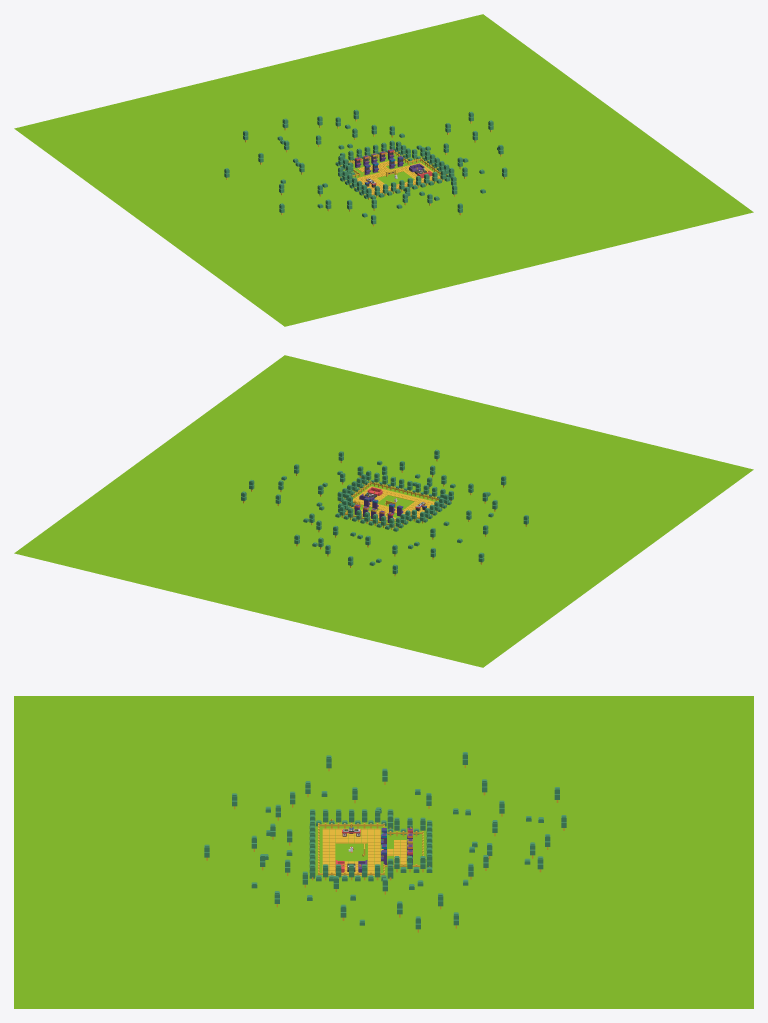
The model's file is arcade.glb.
The picture shows the model from 3 angles, top to bottom: view 1: azimuth 30°, elevation 25°; view 2: azimuth 150°, elevation 25°; view 3: azimuth 270°, elevation 25°; orthographic projection. The views are drawn at different scales.
Visible parts, largest first — view 1: Plane, Trees, Wood Floor; view 2: Plane, Trees, Wood Floor; view 3: Plane, Trees, Wood Floor, Fence.
Part boxes in pixels (x1,y1,x2,y2): Plane: (14,14,753,326); Trees: (224,109,507,226); Wood Floor: (356,160,439,193); Plane: (14,355,753,667); Trees: (241,449,528,576); Wood Floor: (352,486,434,520); Plane: (14,696,753,1008); Trees: (204,752,566,932); Wood Floor: (322,828,406,875); Fence: (318,823,423,875).
Size of the model in its own units: 227 by 5.28 by 227.
